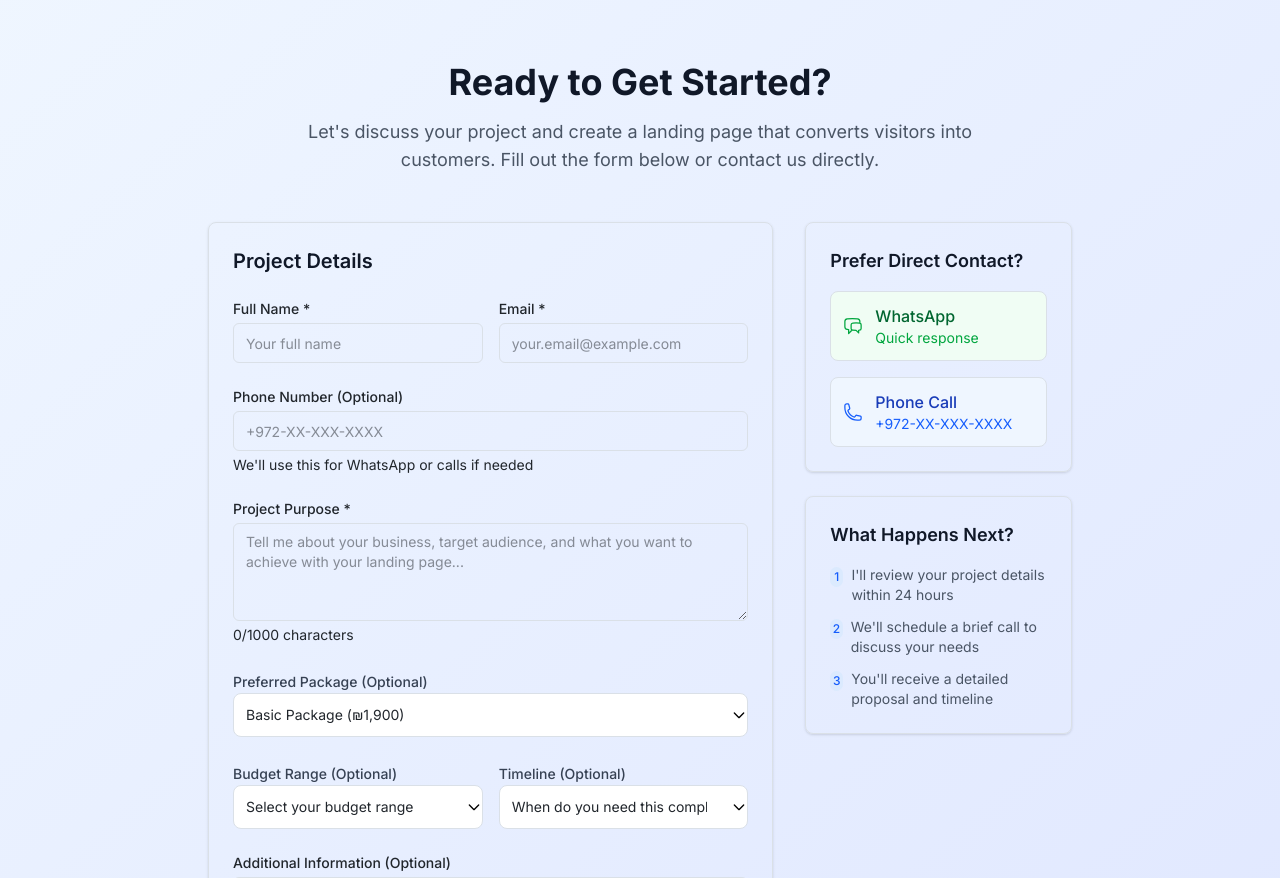
Scenario: Contact Component › validates phone number format when provided
Type "invalid-phone" into the field labelled "Phone Number (Optional)" at (491, 431), box [233,411,748,451]
(page scrolled)
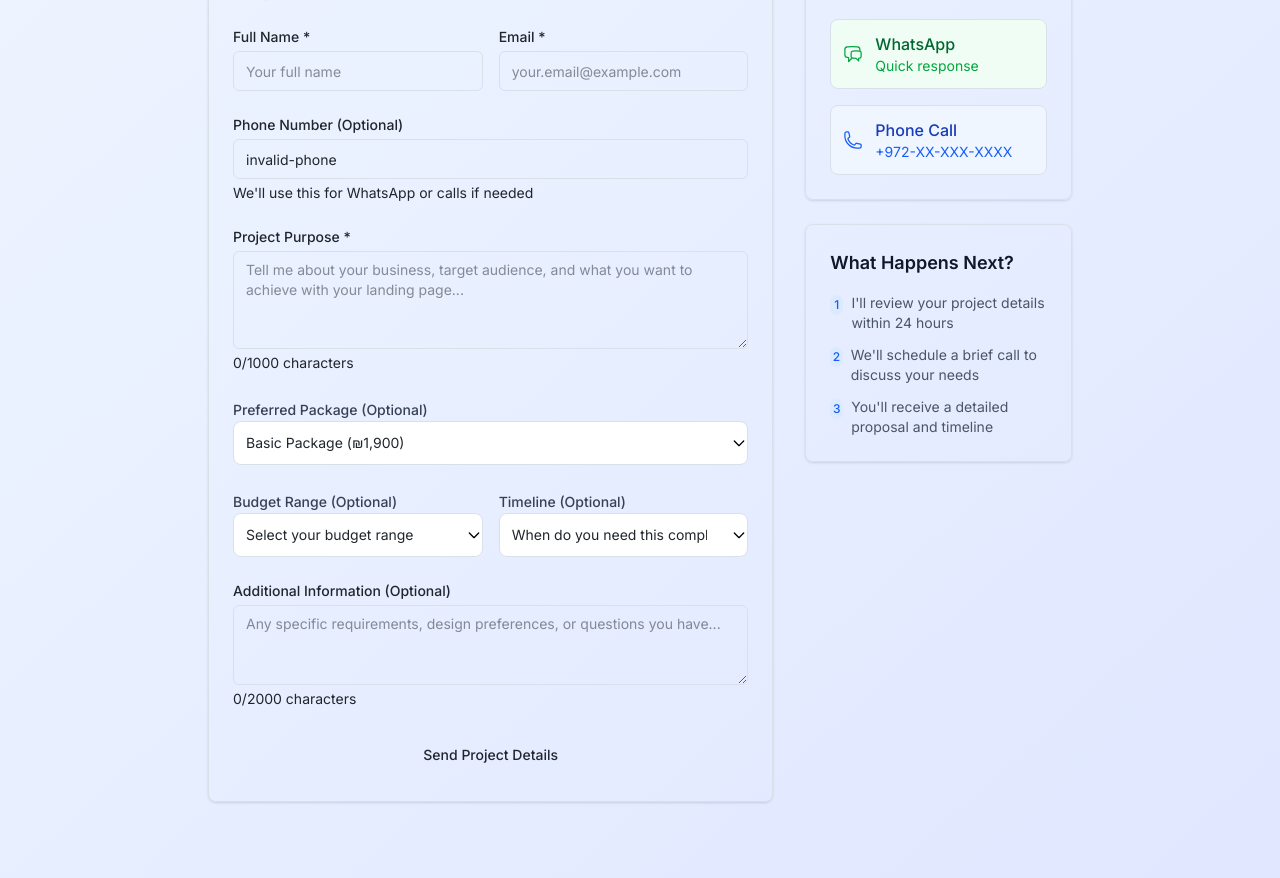
Click the button "Send Project Details" at (491, 755), box [233,733,748,777]
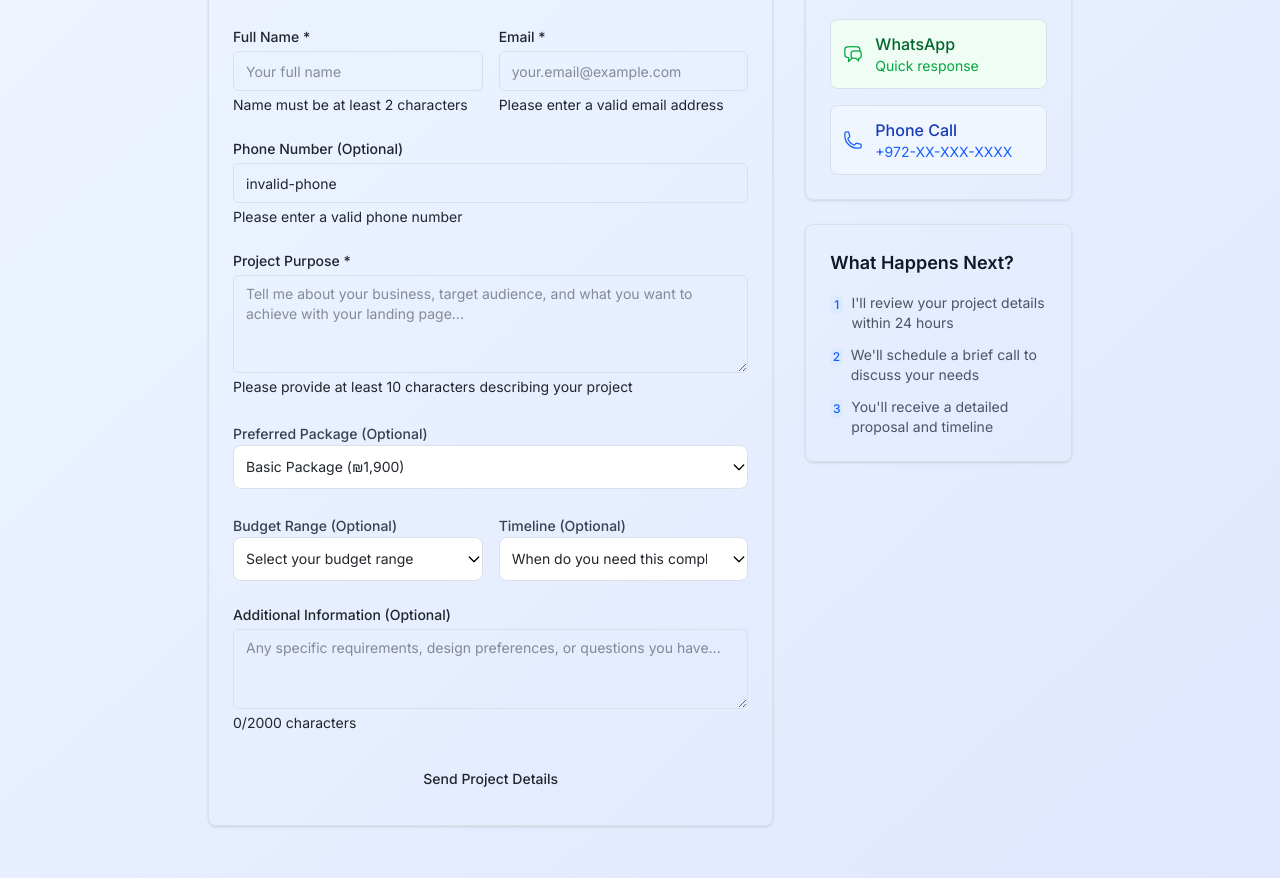
Check: the text "Please enter a valid phone number" is shown, box [233,208,462,225]
